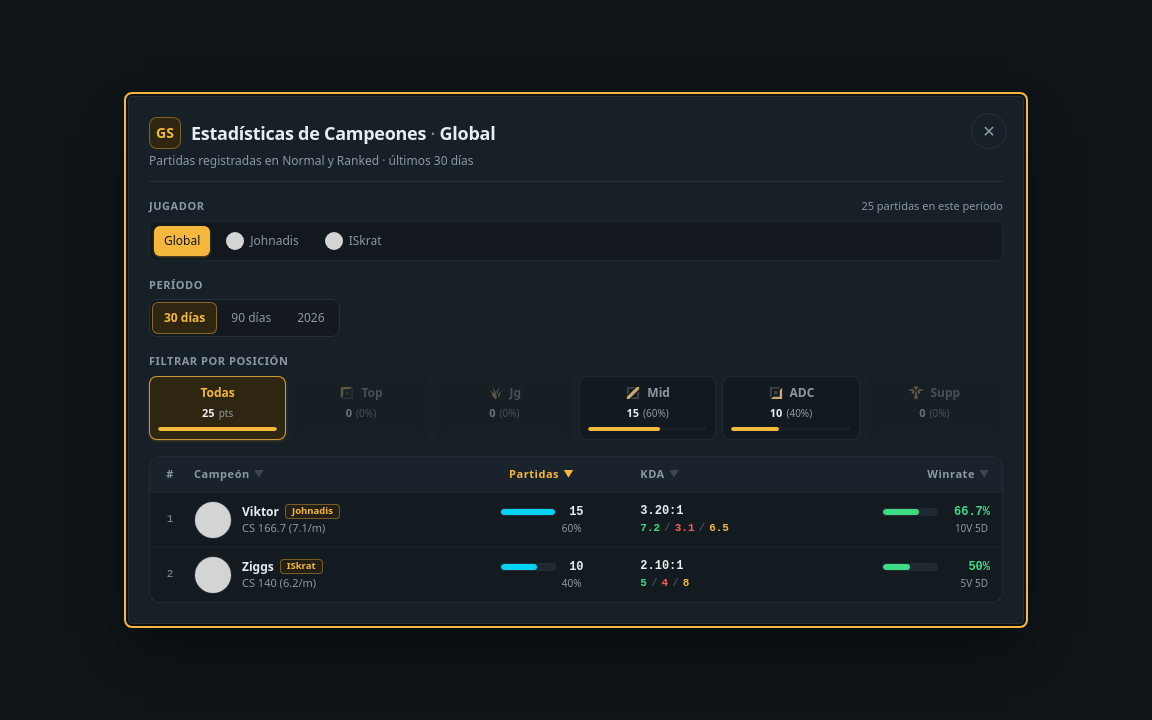
it: ModalCampeones › filtra por línea al hacer clic en un rol y permite volver a todas
Expected: the text "Viktor" is shown, [242,504,279,519]
Expected: the text "Ziggs" is shown, [242,559,274,574]
# Clic en ADC (Bottom)
Click the button "ADC 10 (40%)": [791, 408] box [722,376,860,440]
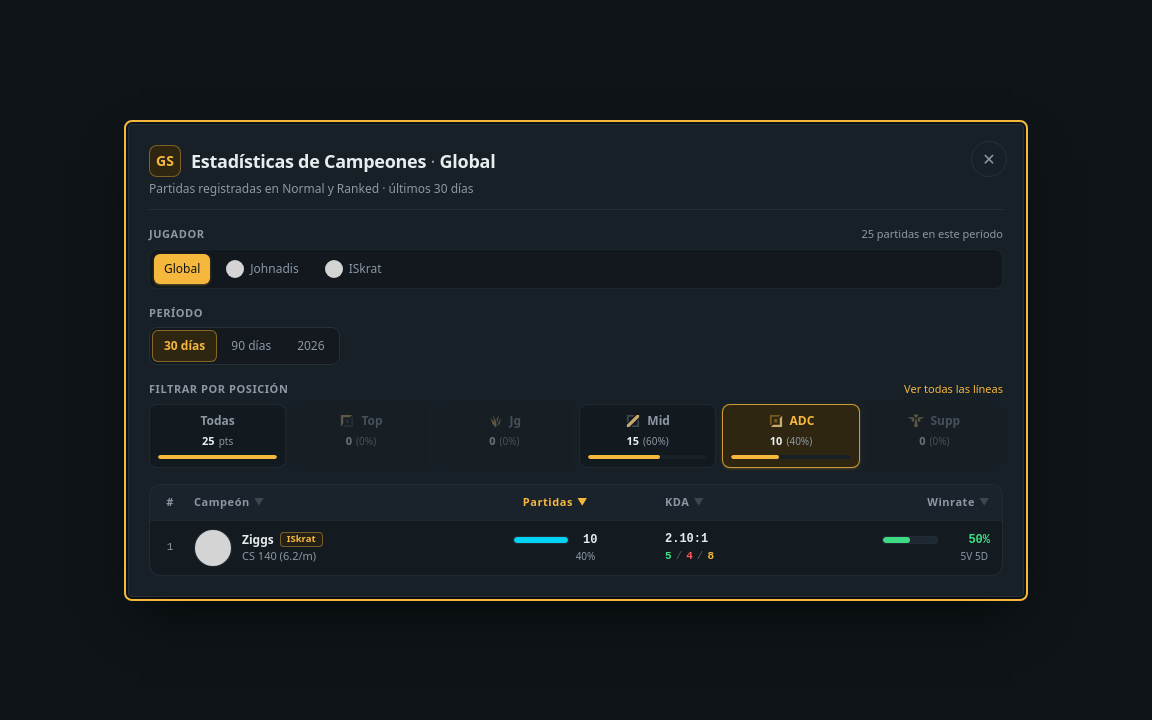
Expected: the text "Ziggs" is shown, [242,532,274,546]
Expected: the text "Viktor" is gone
# Clic en "Ver todas las líneas"
Click the button "Ver todas las líneas": [954, 389] box [904,381,1003,397]
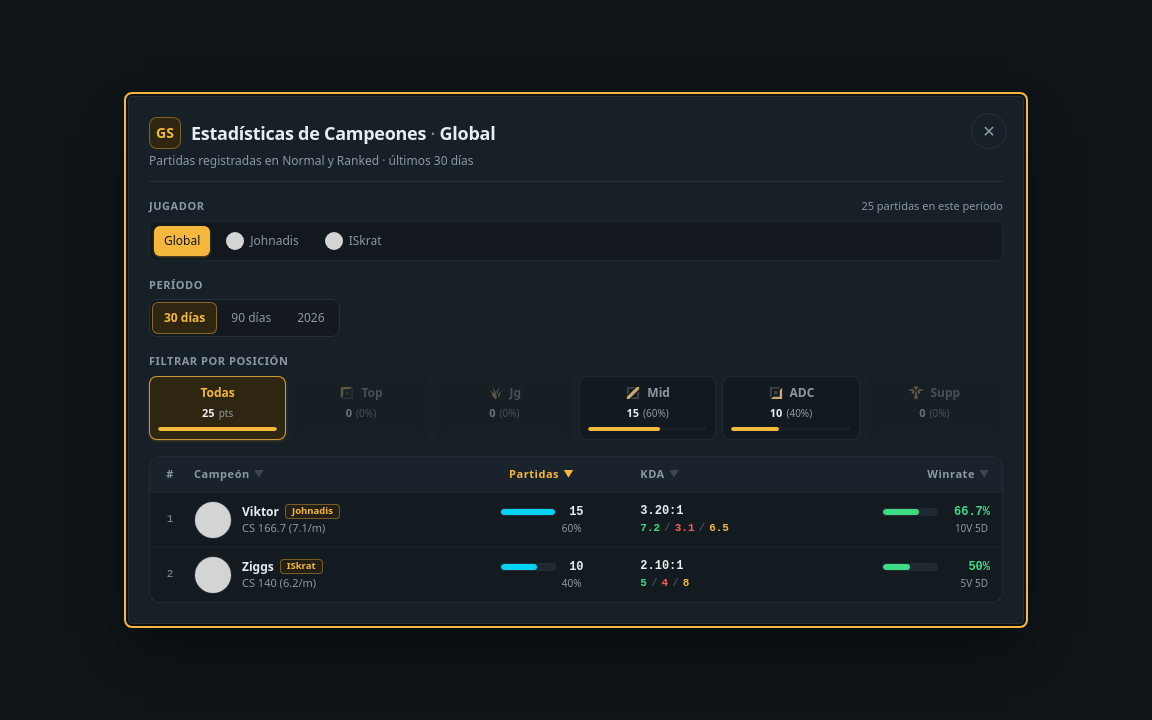
Expected: the text "Ziggs" is shown, [242,559,274,574]
Expected: the text "Viktor" is shown, [242,504,279,519]
